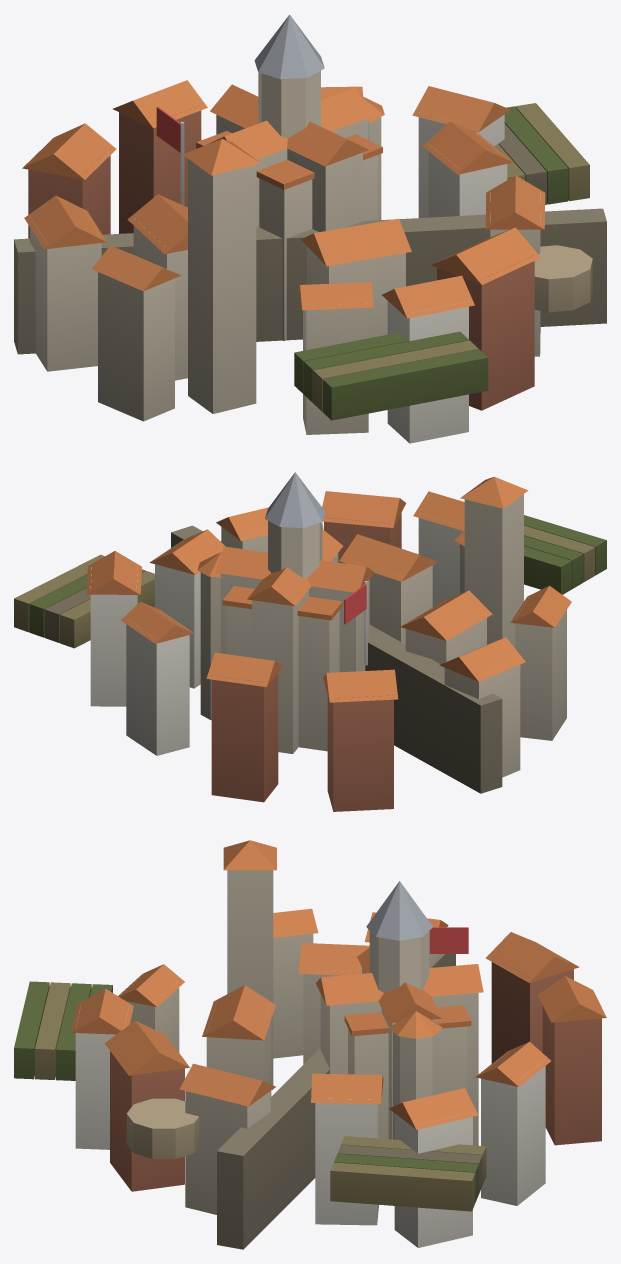
Rendered from village_byz_b.glb.
3 views of the same model, one above another, from view 1: azimuth 30°, elevation 25°; view 2: azimuth 150°, elevation 25°; view 3: azimuth 270°, elevation 25° (orthographic). The views are drawn at different scales.
Visible parts, largest first — view 1: village_byz_b; view 2: village_byz_b; view 3: village_byz_b.
Boxes of the visible parts, bbox=[...] form: village_byz_b: bbox=[14, 14, 606, 443]; village_byz_b: bbox=[14, 472, 606, 811]; village_byz_b: bbox=[14, 840, 606, 1249].
Size of the model in its own units: 2 by 1.02 by 2.06.
